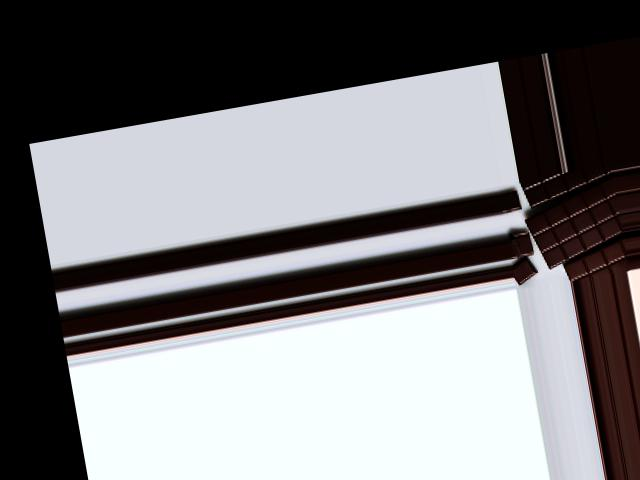chocolate: (521, 179, 628, 273)
